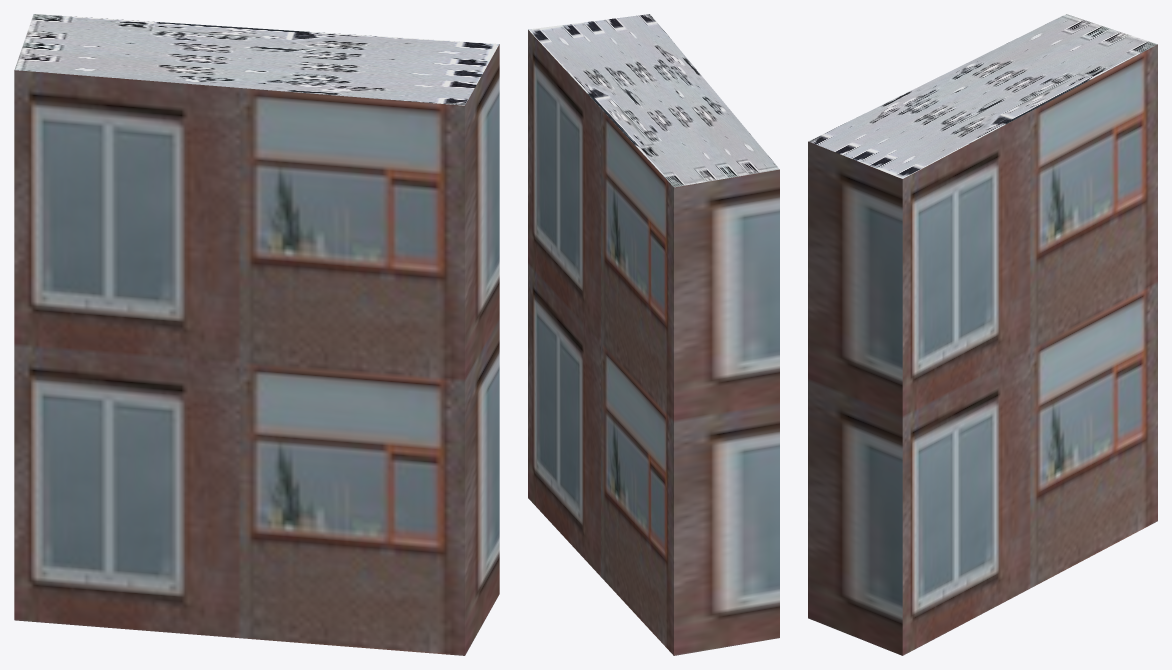
The model's file is ResTex__3119.fbx.
The picture shows the model from 3 angles, left to right: view 1: azimuth 30°, elevation 25°; view 2: azimuth 150°, elevation 25°; view 3: azimuth 270°, elevation 25°; orthographic projection. The views are drawn at different scales.
Visible parts, largest first — view 1: CityEngineMaterial_19_m, CityEngineMaterial_15_m; view 2: CityEngineMaterial_19_m, CityEngineMaterial_15_m; view 3: CityEngineMaterial_19_m, CityEngineMaterial_15_m.
Boxes of the visible parts, x1=… form: CityEngineMaterial_19_m: x1=14, y1=44, x2=499, y2=655; CityEngineMaterial_15_m: x1=14, y1=14, x2=499, y2=105; CityEngineMaterial_19_m: x1=528, y1=30, x2=779, y2=655; CityEngineMaterial_15_m: x1=528, y1=14, x2=779, y2=187; CityEngineMaterial_19_m: x1=808, y1=44, x2=1157, y2=655; CityEngineMaterial_15_m: x1=808, y1=14, x2=1157, y2=178.
Size of the model in its own units: 4.46 by 6 by 3.99.
Materials: 2 (2 with a texture image).
